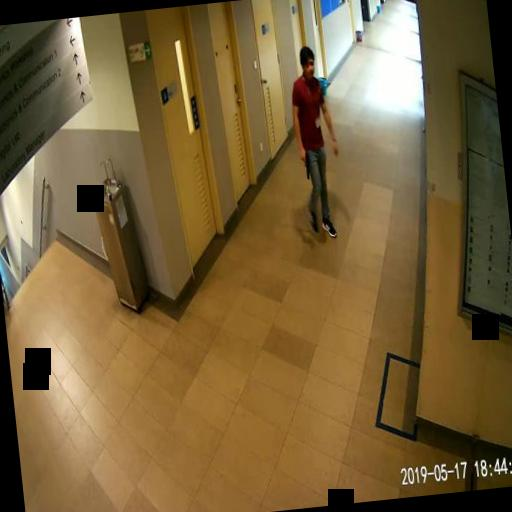Handgun: (297, 149, 309, 179)
